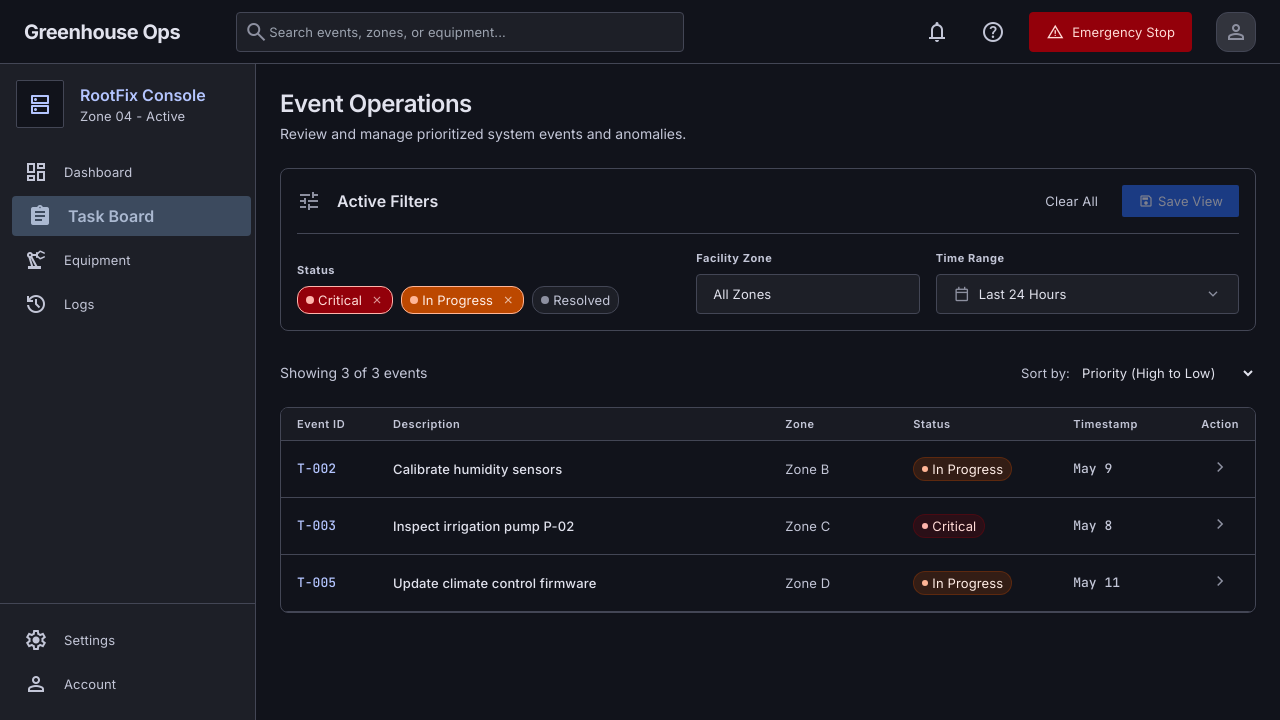
Test: FilteredOverview screen › filters by zone
The image size is (1280, 720).
Select "Zone A" in the dropdown named "Facility zone filter". click: (808, 294)
box: [696,274,920,314]
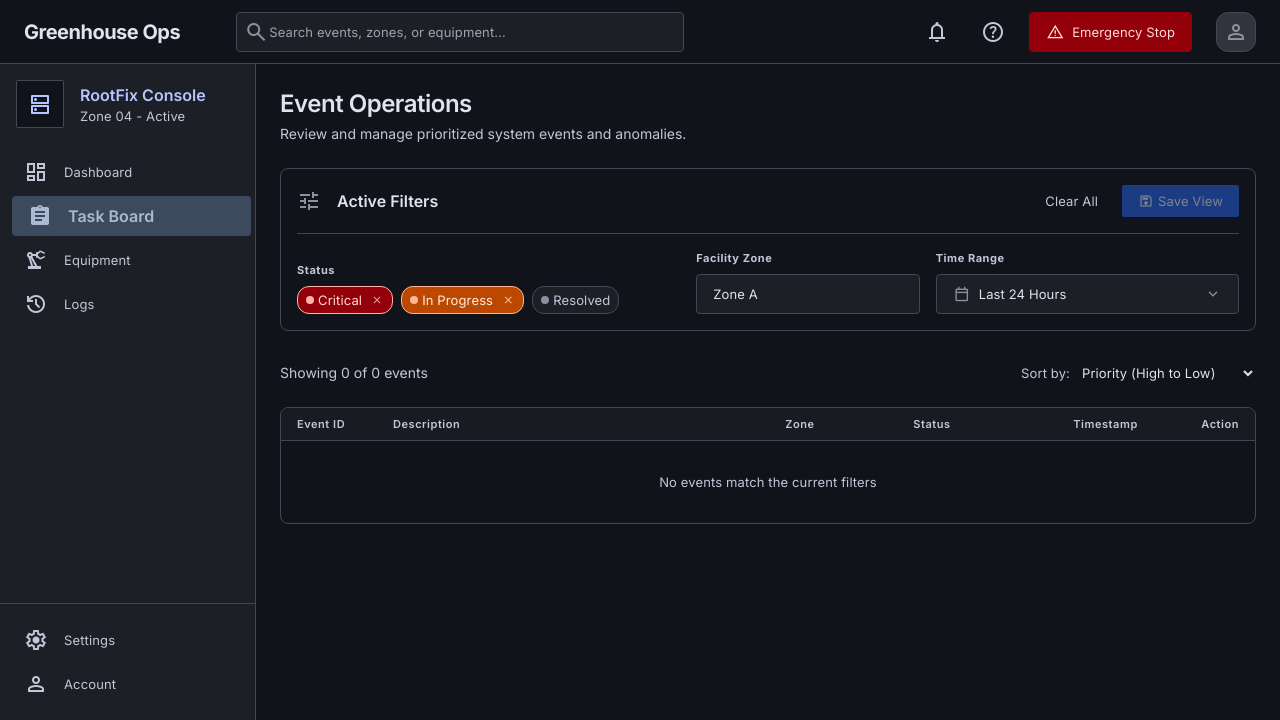
Expected: the text "Inspect irrigation pump P-02" is gone
